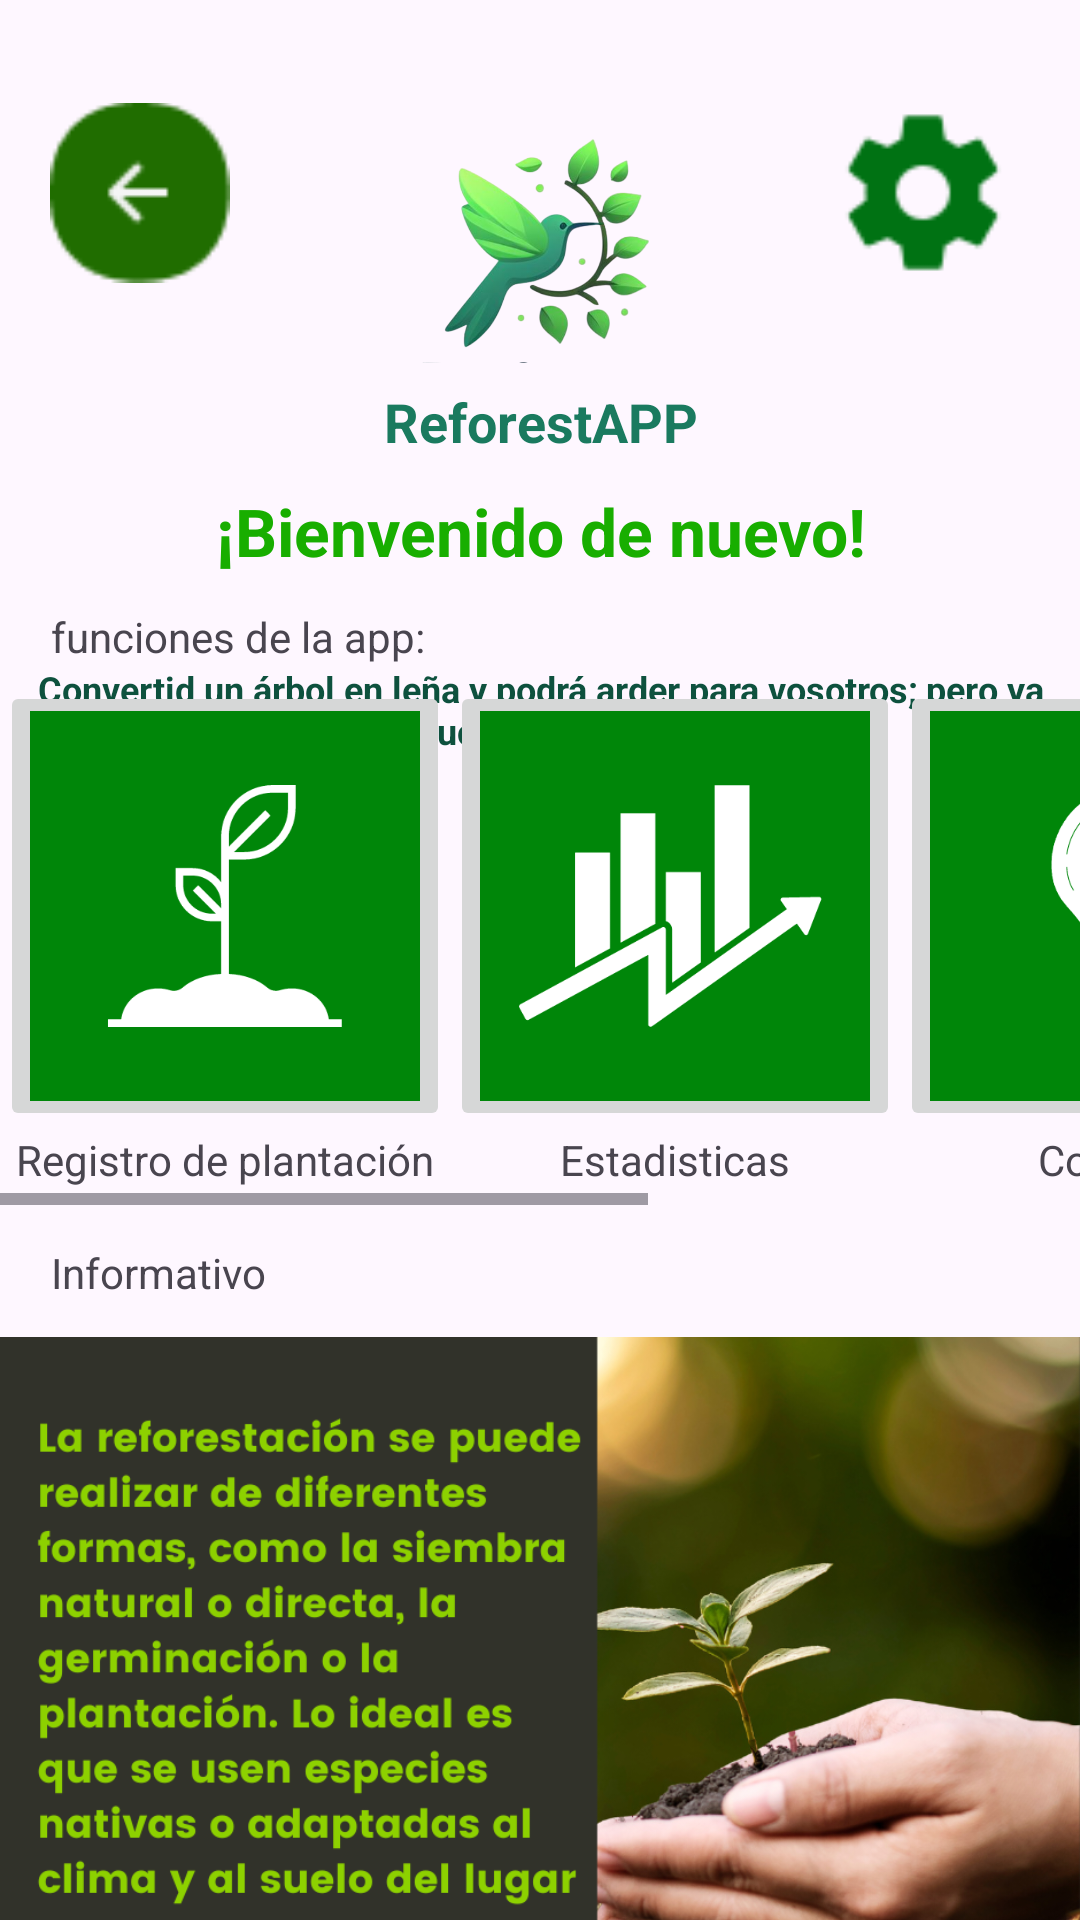

Named icons in this screenshot (1080px x 1920px) and their bounding boxes, (x1, y1, x2, y2):
boton de configuración: (848, 114, 998, 271)
boton de salida: (50, 103, 230, 283)
